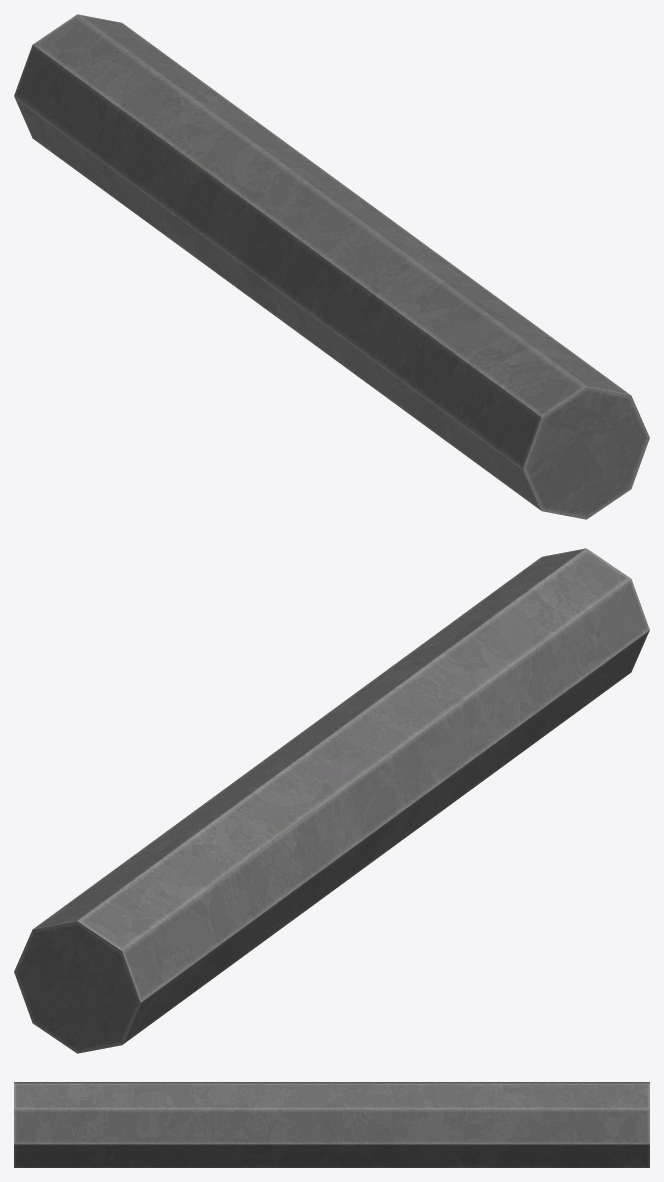
File: IronRod_Polished.glb
The picture shows the model from 3 angles, top to bottom: view 1: azimuth 30°, elevation 25°; view 2: azimuth 150°, elevation 25°; view 3: azimuth 270°, elevation 25°; orthographic projection. The views are drawn at different scales.
Parts seen in each view (by area): view 1: IronRod_Polished; view 2: IronRod_Polished; view 3: IronRod_Polished.
Part boxes in pixels (x1,y1,x2,y2): IronRod_Polished: (14,14,649,519); IronRod_Polished: (14,548,649,1053); IronRod_Polished: (14,1082,649,1167).
Bounding box in the file's own units: 0.1162 × 0.1162 × 0.8081.
Materials: 1 (1 with a texture image).
